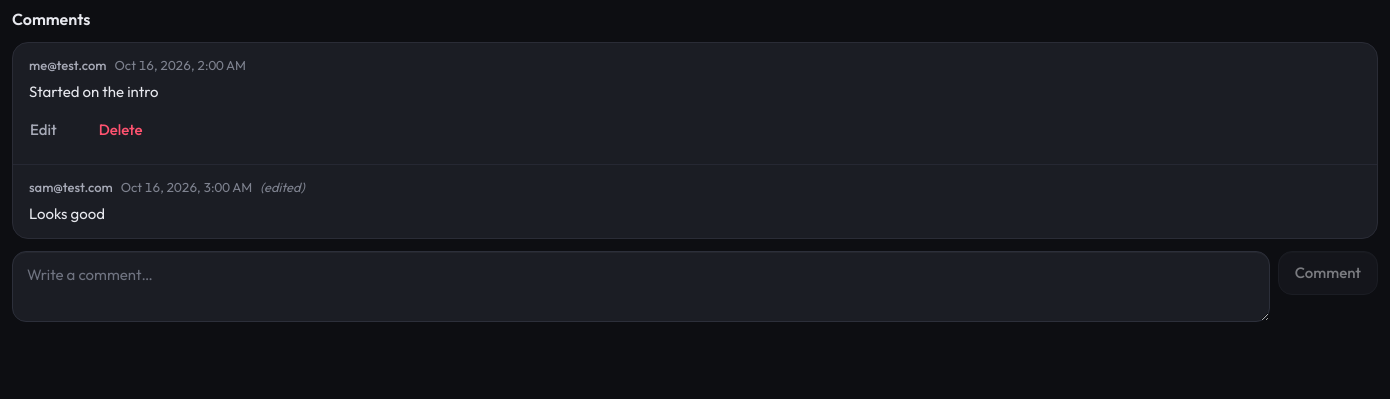
Comments › shows the server message when adding fails
Expected: the text "Looks good" is shown, [29,204,105,223]
Type "x" into the text box named "New comment" at [641, 286], box [12,251,1270,322]
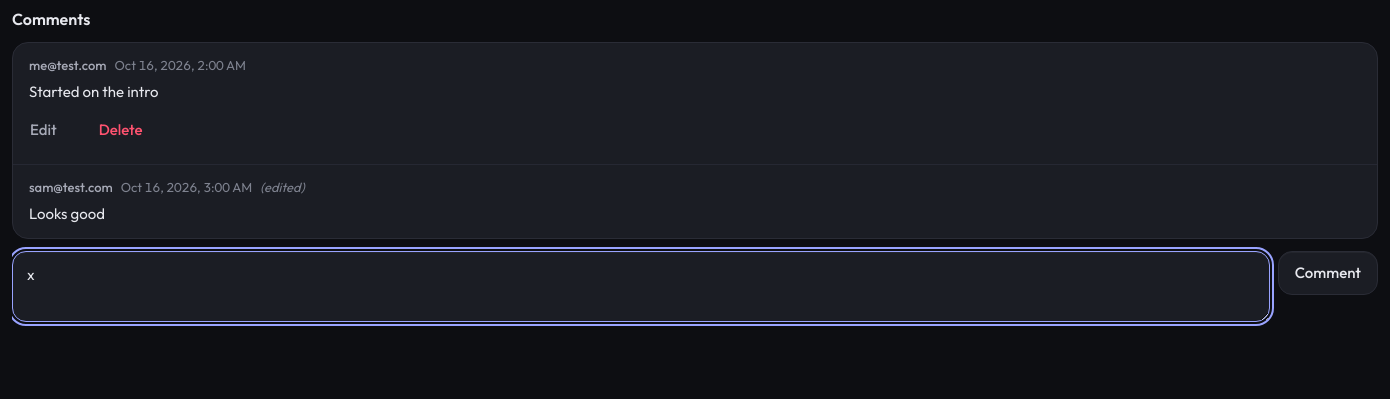
Click the button "Comment" at [1328, 273], box [1278,251,1378,295]
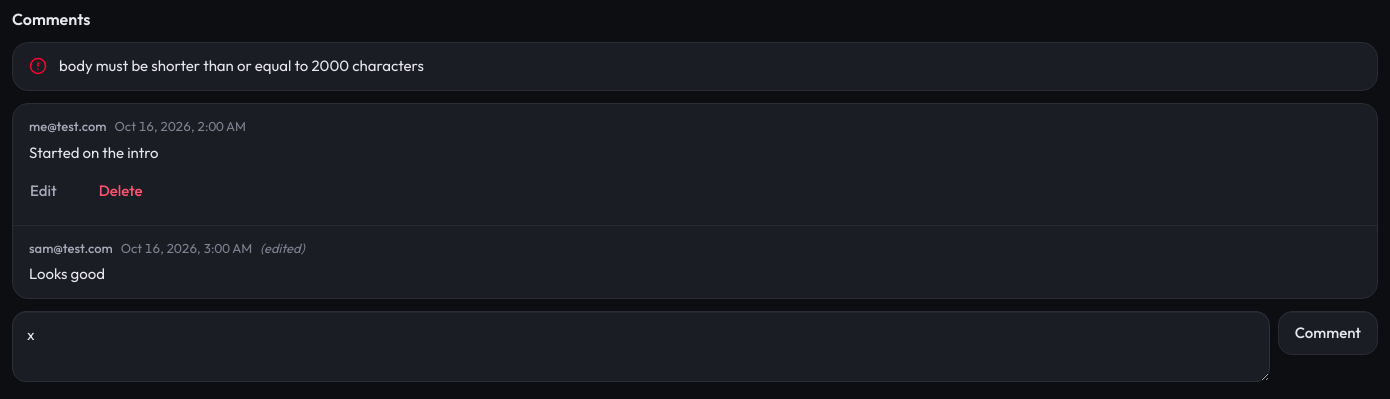
Result: the text "body must be shorter than or equal to 2000 characters" is shown at [12,42,1378,91]
